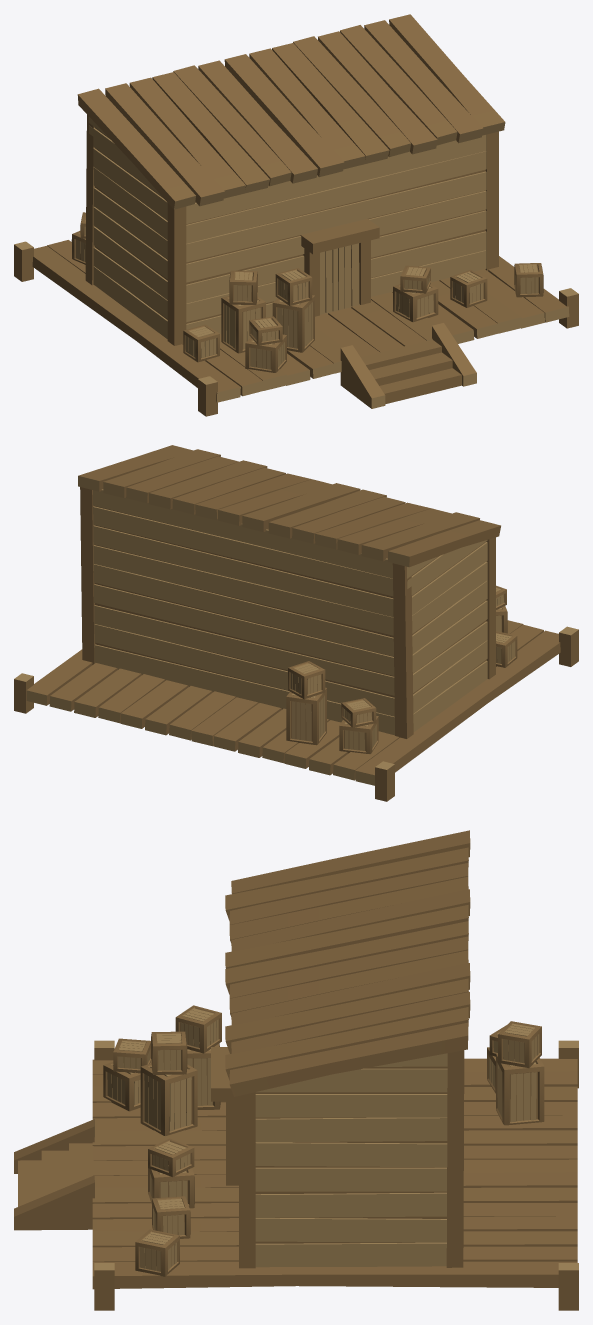
Rendered from quaternius-real-time-strategy-storage-first-age-level-2.glb.
3 views of the same model, one above another, from view 1: azimuth 30°, elevation 25°; view 2: azimuth 150°, elevation 25°; view 3: azimuth 270°, elevation 25° (orthographic). The views are drawn at different scales.
Parts seen in each view (by area): view 1: Storage_FirstAge_Level2; view 2: Storage_FirstAge_Level2; view 3: Storage_FirstAge_Level2.
Boxes of the visible parts, box(x1,y1,x2,y2) form: Storage_FirstAge_Level2: box(14, 14, 578, 416); Storage_FirstAge_Level2: box(14, 445, 578, 801); Storage_FirstAge_Level2: box(14, 830, 578, 1310).
Size of the model in its own units: 1.41 by 0.7612 by 1.47.
